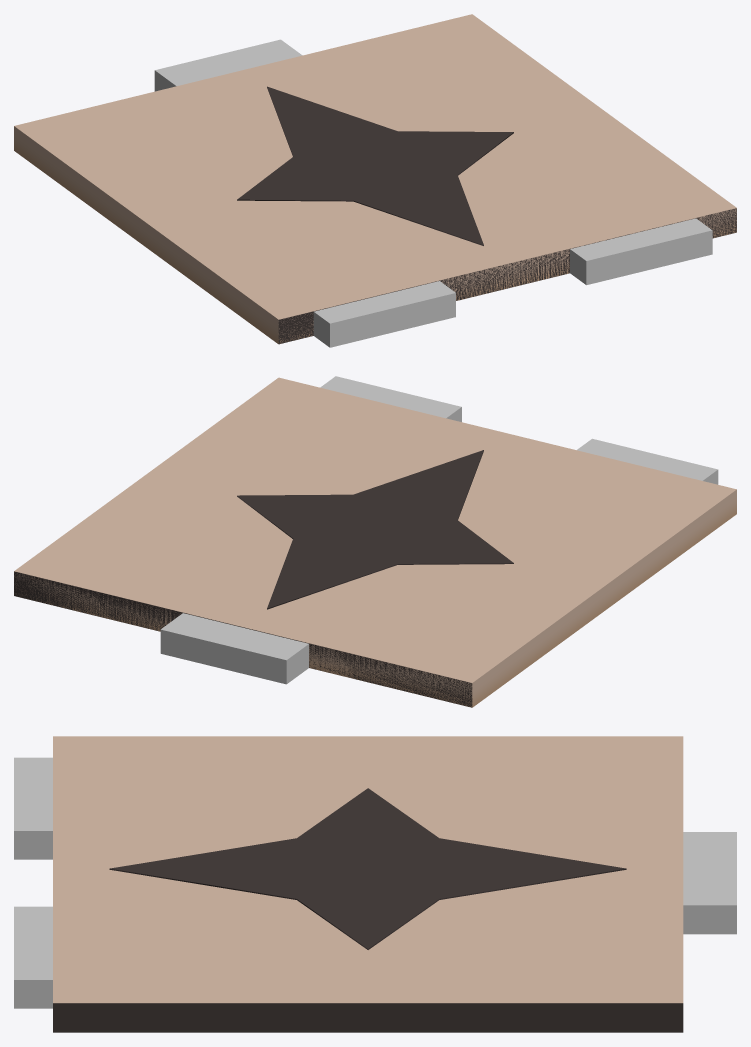
File: Lattiapalat.fbx
3 views of the same model, one above another, from view 1: azimuth 30°, elevation 25°; view 2: azimuth 150°, elevation 25°; view 3: azimuth 270°, elevation 25° (orthographic). The views are drawn at different scales.
Visible parts, largest first — view 1: tile_3, tile_1, planks1; view 2: tile_3, tile_1, planks1; view 3: tile_3, tile_1, planks1.
Part boxes in pixels (bbox=[...]): tile_3: bbox=[14, 14, 736, 343]; tile_1: bbox=[237, 86, 736, 344]; planks1: bbox=[154, 39, 712, 347]; tile_3: bbox=[14, 377, 736, 707]; tile_1: bbox=[14, 450, 513, 707]; planks1: bbox=[160, 376, 718, 684]; tile_3: bbox=[53, 736, 683, 1003]; tile_1: bbox=[53, 788, 683, 1032]; planks1: bbox=[14, 757, 736, 1008].
Bounding box in the file's own units: 1.5 × 0.0806 × 1.72.
